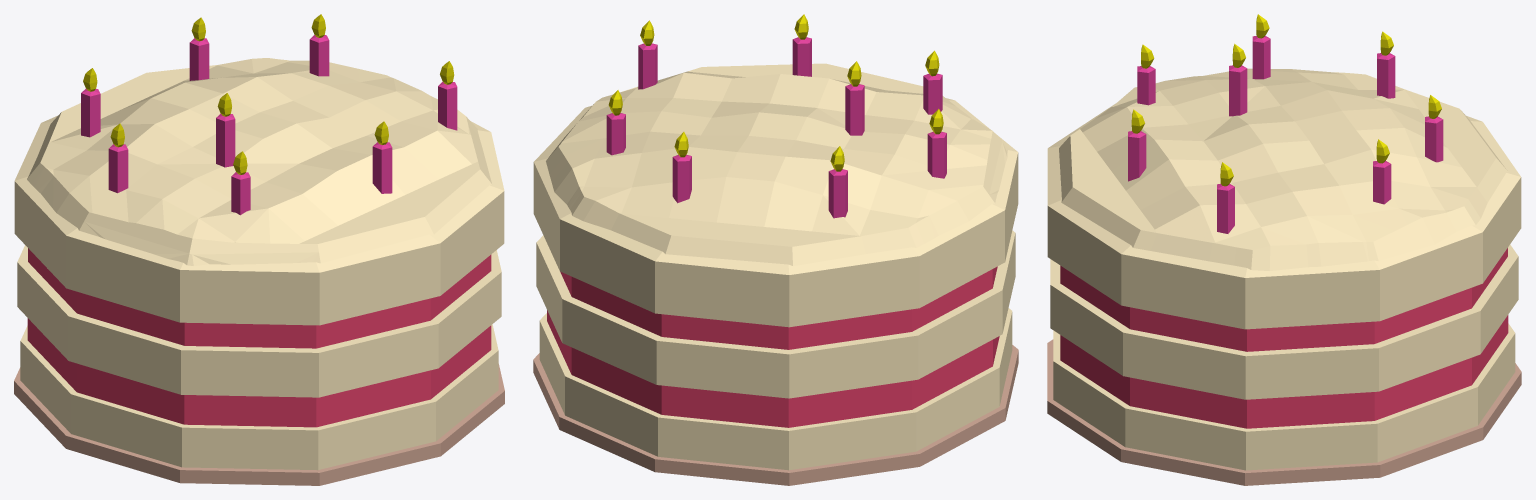
The model's file is Cake.glb.
3 views of the same model, side by side, from view 1: azimuth 30°, elevation 25°; view 2: azimuth 150°, elevation 25°; view 3: azimuth 270°, elevation 25° (orthographic). The views are drawn at different scales.
Visible parts, largest first — view 1: Cake; view 2: Cake; view 3: Cake.
Part boxes in pixels (box(x1,y1,x2,y2)): Cake: box(14, 14, 504, 485); Cake: box(533, 14, 1018, 485); Cake: box(1047, 14, 1521, 485).
Bounding box in the file's own units: 1.98 × 1.43 × 1.96.
Materials: 1 (1 with a texture image).
